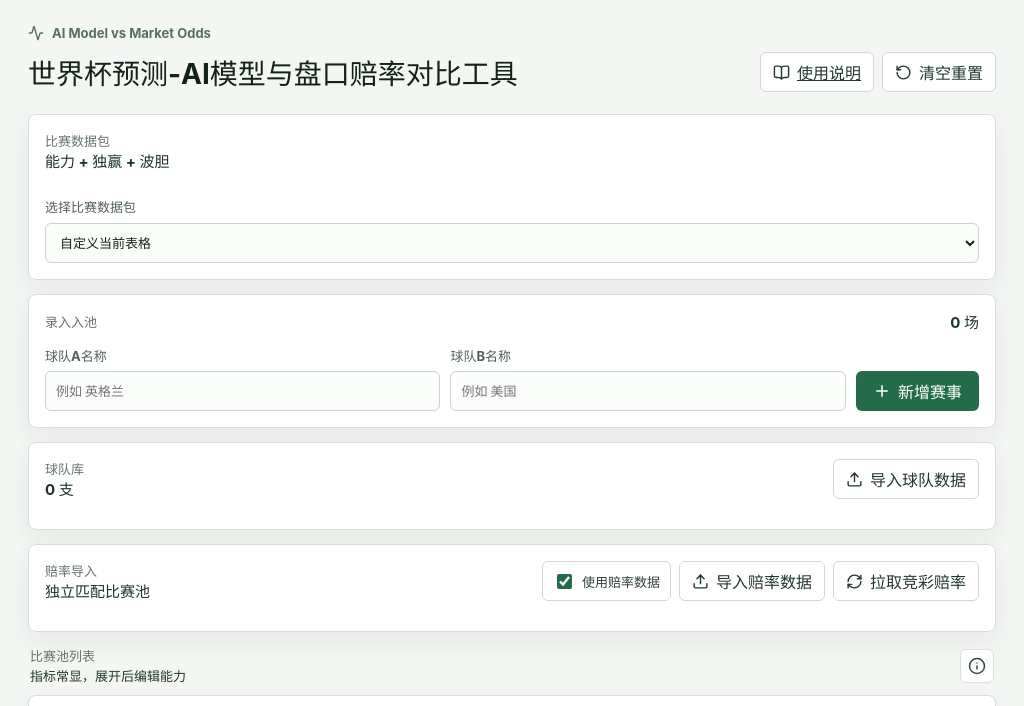
Test: App › uses a single-column workspace and allows collapsing recommended results
In the field labelled "球队A名称": (243, 391) [45,371,440,411], type "英格兰"
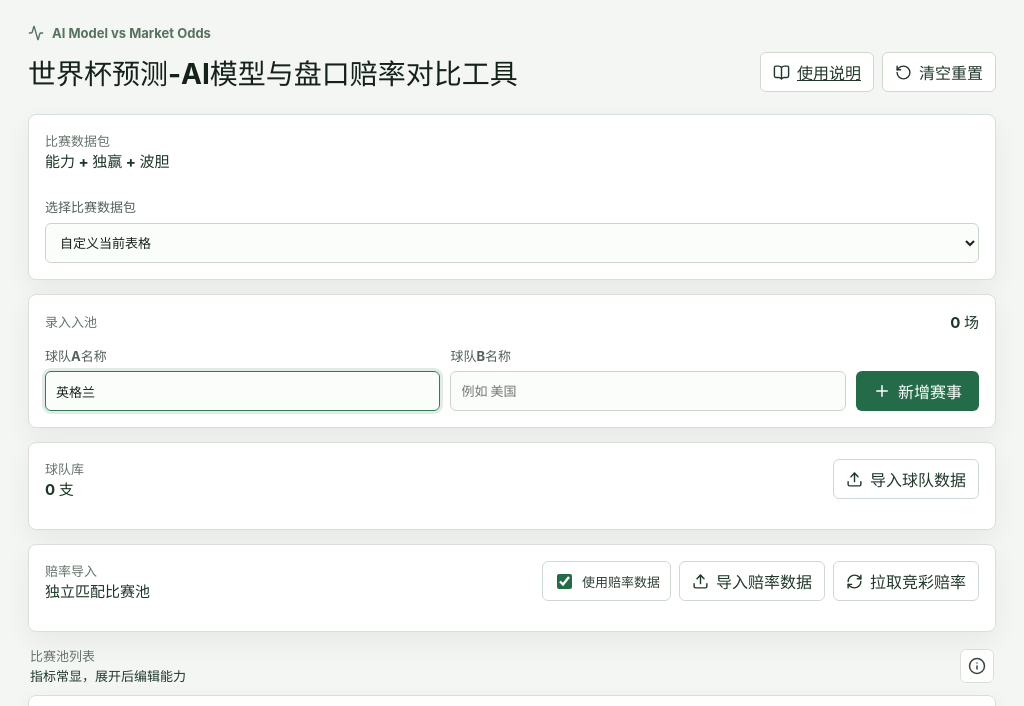
In the field labelled "球队B名称": (648, 391) [450,371,846,411], type "美国"
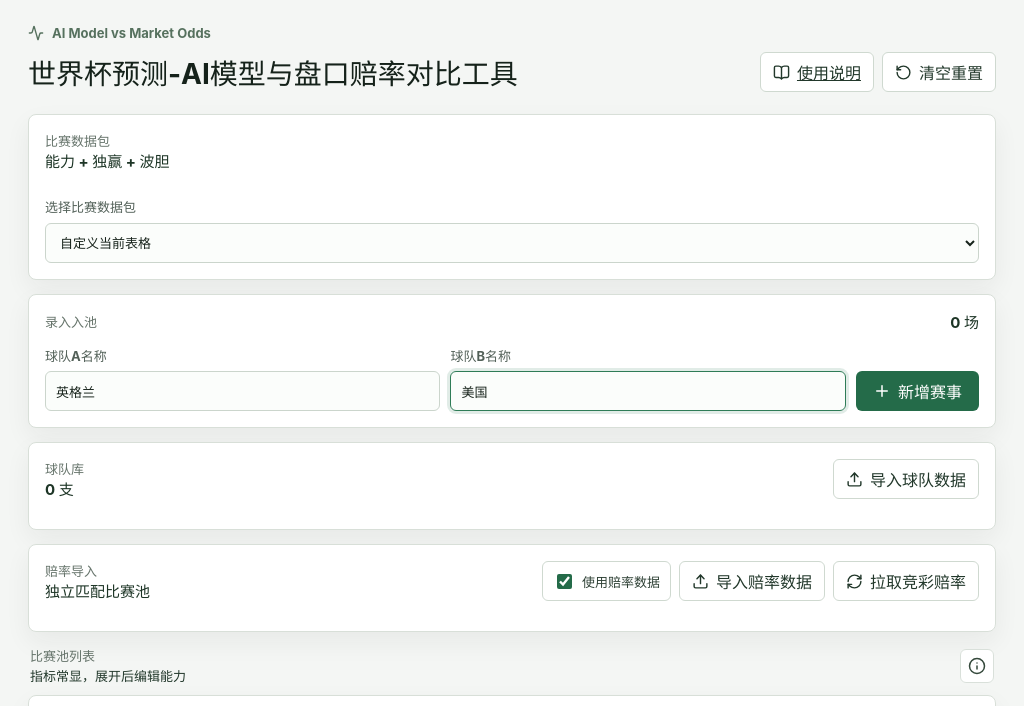
Click the button "新增赛事": (918, 391) [856,371,979,411]
(page scrolled)
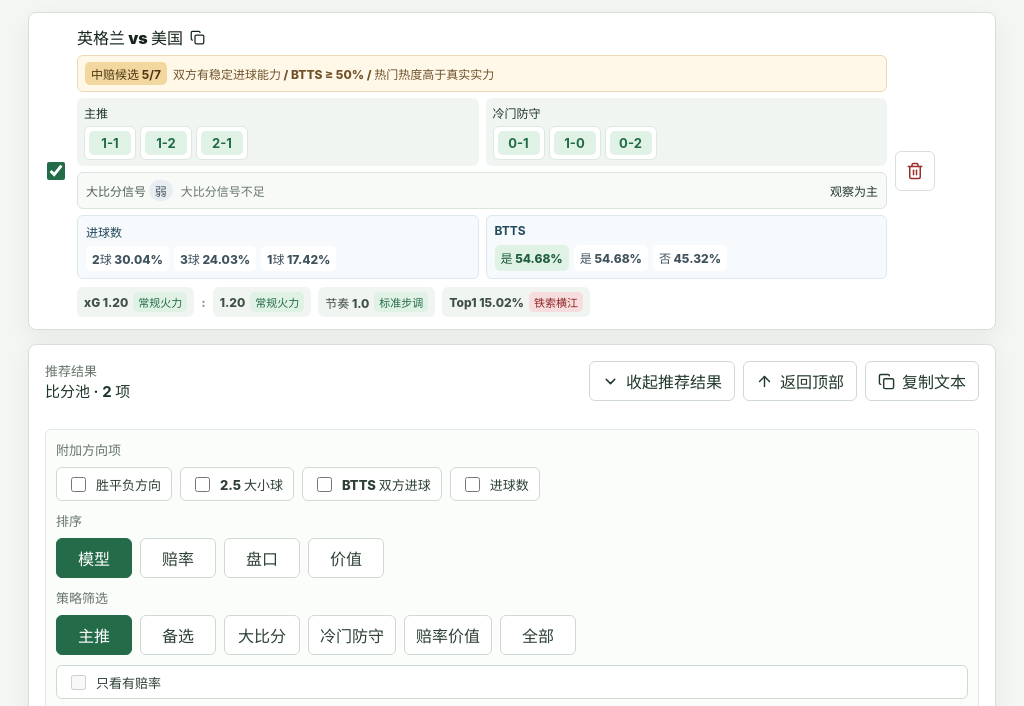
Check: the button "收起推荐结果" is shown
Click the button "收起推荐结果": (662, 381) [589,361,735,401]
(page scrolled)
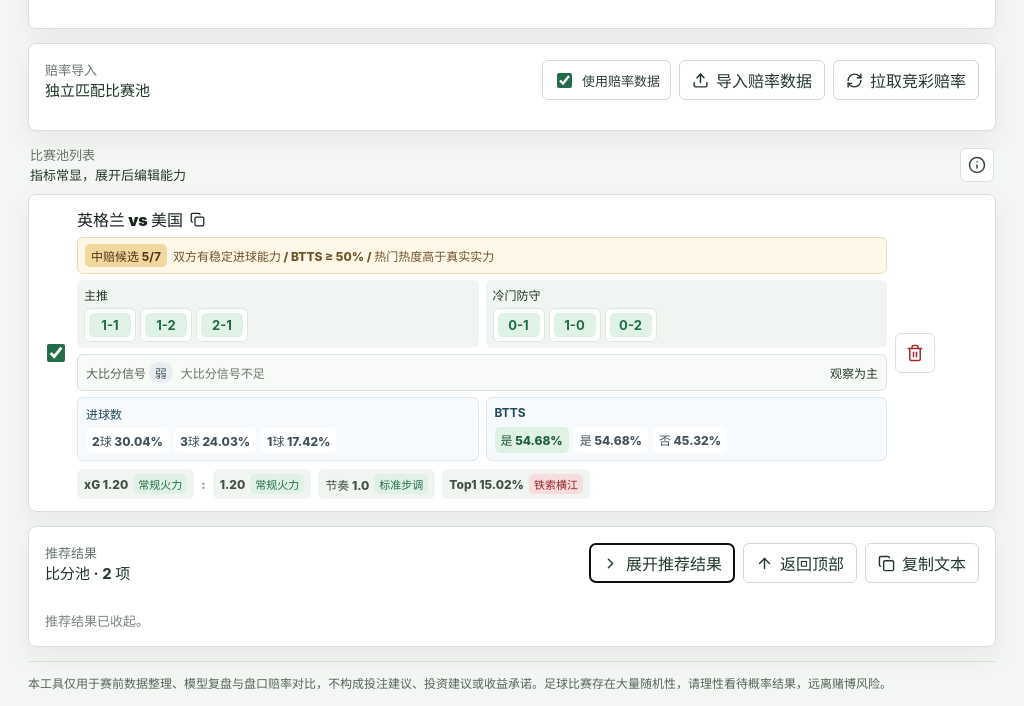
Check: the button "展开推荐结果" is shown, box [589,543,735,583]
